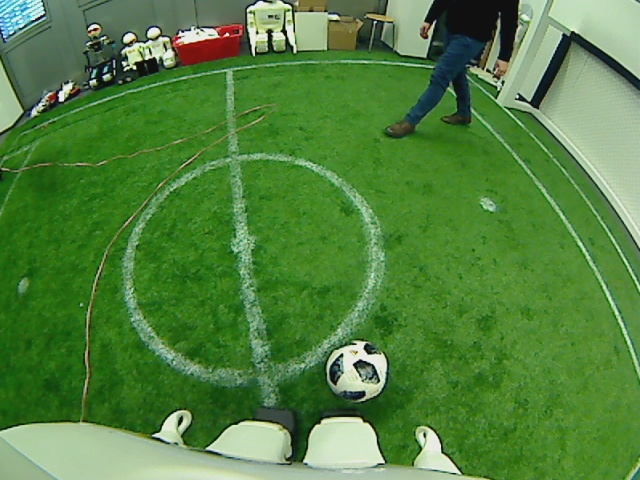ball: (322, 338, 390, 405)
